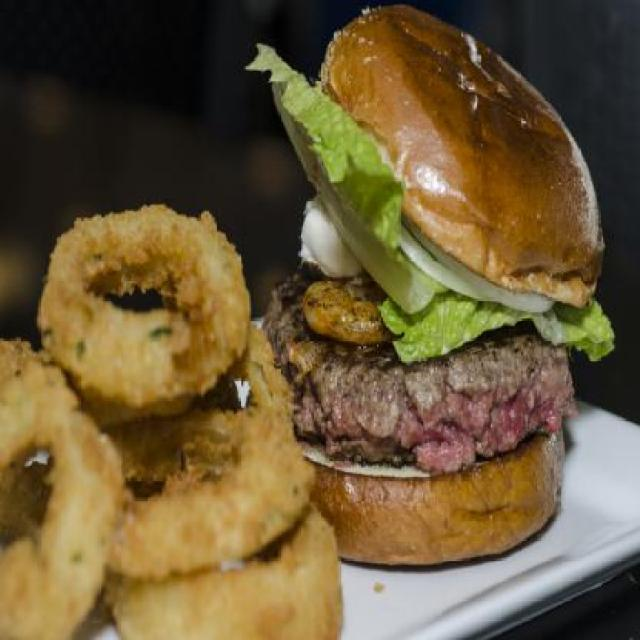Hamburger: (242, 8, 618, 570)
